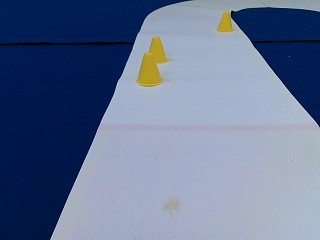cone: (136, 53, 163, 85), (148, 37, 167, 63), (216, 11, 233, 32)
